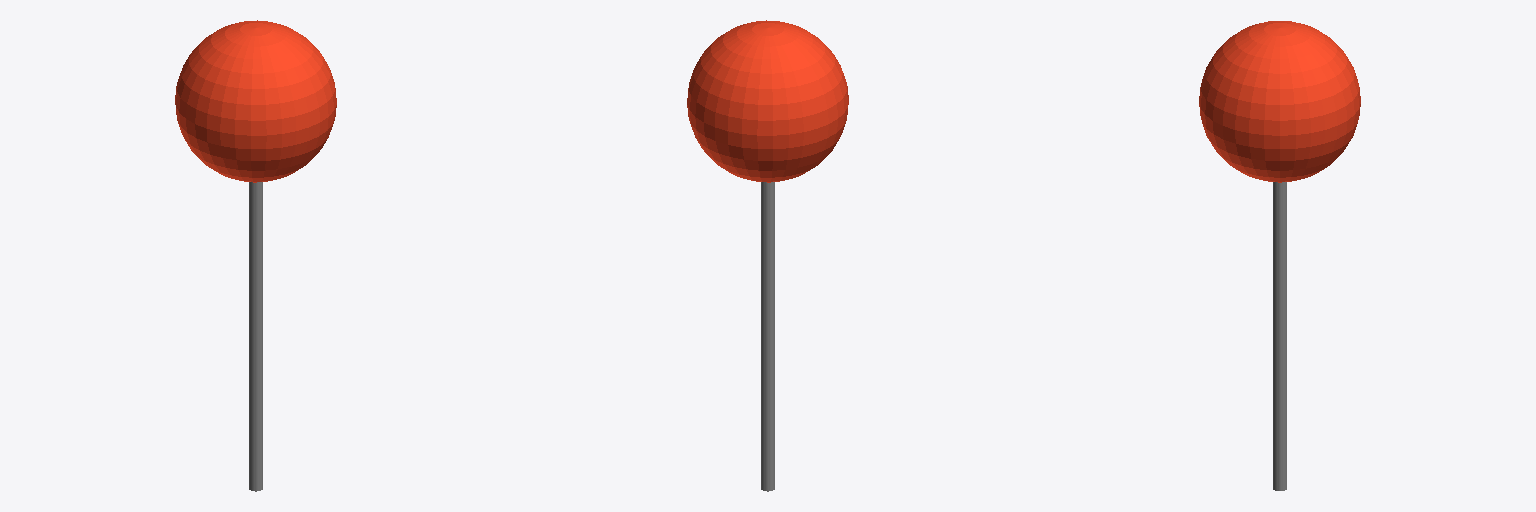
URDF robot description (box):
<?xml version="1.0" ?>
<robot name="box">

  <material name="panda_white">
    <color rgba="1. 0.87 0.68 1."/>
  </material>

  <material name="metal">
    <color rgba="0.6 0.6 0.6 1."/>
  </material>

  <material name="orangered">
    <color rgba="1 0.34 0.2 0.5"/>
  </material>

  <link name="link1">
    <inertial>
      <origin rpy="0 0 0" xyz="0 0 0"/>
       <mass value=".0"/>
       <inertia ixx="0" ixy="0" ixz="0" iyy="0" iyz="0" izz="0"/>
    </inertial>

    <visual>
      <origin rpy="0 0 0.78539816339" xyz="0 0 0.3"/>
      <geometry>
        <box size="0.08 0.08 0.005"/>
      </geometry>
      <material name="panda_white"/>
    </visual>
  </link>

  <link name="link2">
    <inertial>
      <origin rpy="0 0 0" xyz="0 0 0"/>
       <mass value=".0"/>
       <inertia ixx="0" ixy="0" ixz="0" iyy="0" iyz="0" izz="0"/>
    </inertial>

    <visual>
      <origin rpy="0 0 0" xyz="0 0 0.15"/>
      <geometry>
        <cylinder radius="0.005" length="0.3"/>
      </geometry>
      <material name="metal"/>
    </visual>
  </link>

  <link name="link3">
    <inertial>
      <origin rpy="0 0 0" xyz="0 0 0"/>
       <mass value=".0"/>
       <inertia ixx="0" ixy="0" ixz="0" iyy="0" iyz="0" izz="0"/>
    </inertial>

    <visual>
      <origin rpy="0 0 0" xyz="0 0 0.3"/>
      <geometry>
        <sphere radius="0.057"/>
      </geometry>
      <material name="orangered"/>
    </visual>

  </link>

  <joint name="fixed_joint" type="fixed">
    <parent link="link1"/>
    <child link="link2"/>
    <origin xyz="0 0 0" rpy="0 0 0"/>
  </joint>

  <joint name="fixed_joint2" type="fixed">
    <parent link="link1"/>
    <child link="link3"/>
    <origin xyz="0 0 0" rpy="0 0 0"/>
  </joint>

</robot>

--- Render facts (derived) ---
The picture shows the robot from 3 angles, left to right: view 1: azimuth 30°, elevation 25°; view 2: azimuth 150°, elevation 25°; view 3: azimuth 270°, elevation 25°; orthographic projection.
Robot: box — 3 links, 2 joints (2 fixed); root link link1; default pose: every joint at zero.
Visible links, largest first — view 1: link3, link2; view 2: link3, link2; view 3: link3, link2.
Boxes of the visible links, x1=… form: link3: x1=175, y1=20, x2=336, y2=182; link2: x1=249, y1=182, x2=262, y2=491; link3: x1=687, y1=20, x2=848, y2=182; link2: x1=761, y1=182, x2=774, y2=491; link3: x1=1199, y1=21, x2=1360, y2=182; link2: x1=1273, y1=182, x2=1286, y2=490.
Size in the robot's own frame: 0.114 by 0.114 by 0.357 metres.
Geometry: primitives only (box / cylinder / sphere), no mesh files.